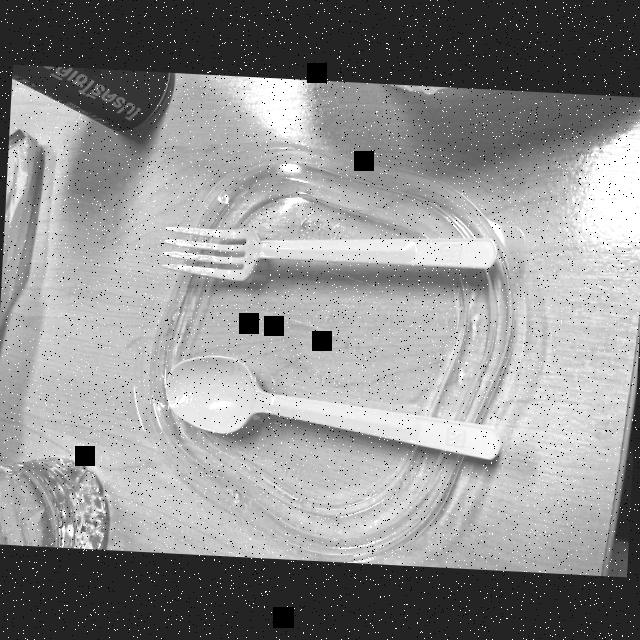plastic_cultery: (154, 340, 517, 470), (151, 202, 505, 316)
